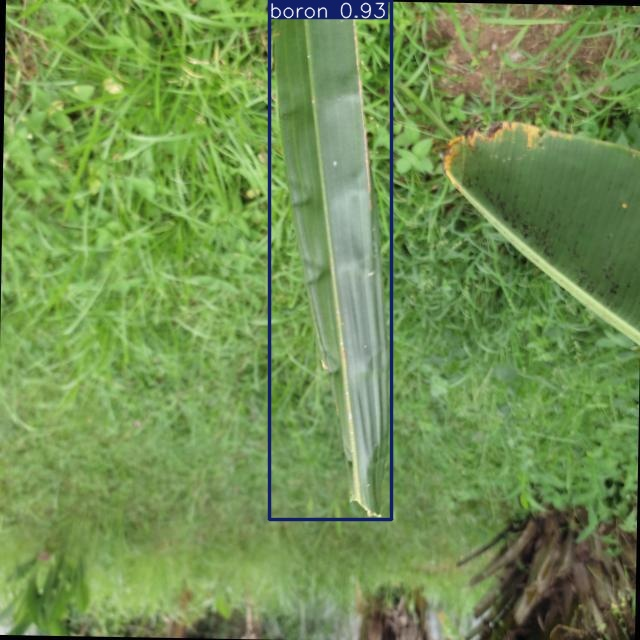nitrogen: (269, 1, 391, 520)
